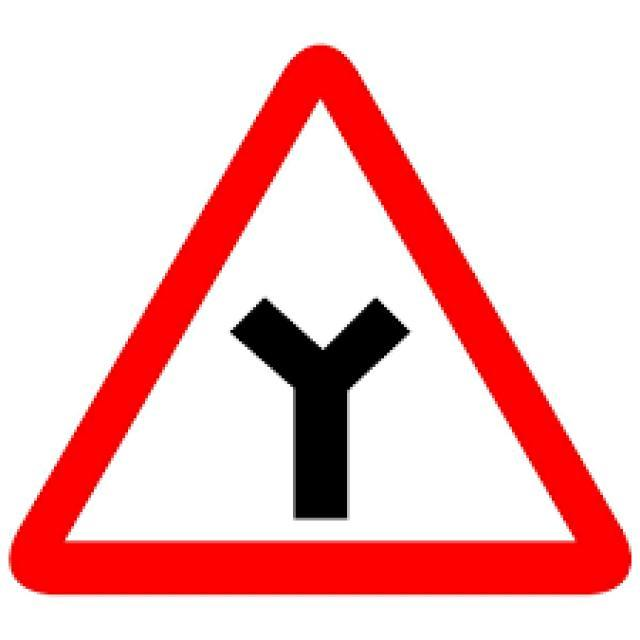y intersection: (35, 65, 605, 595)
